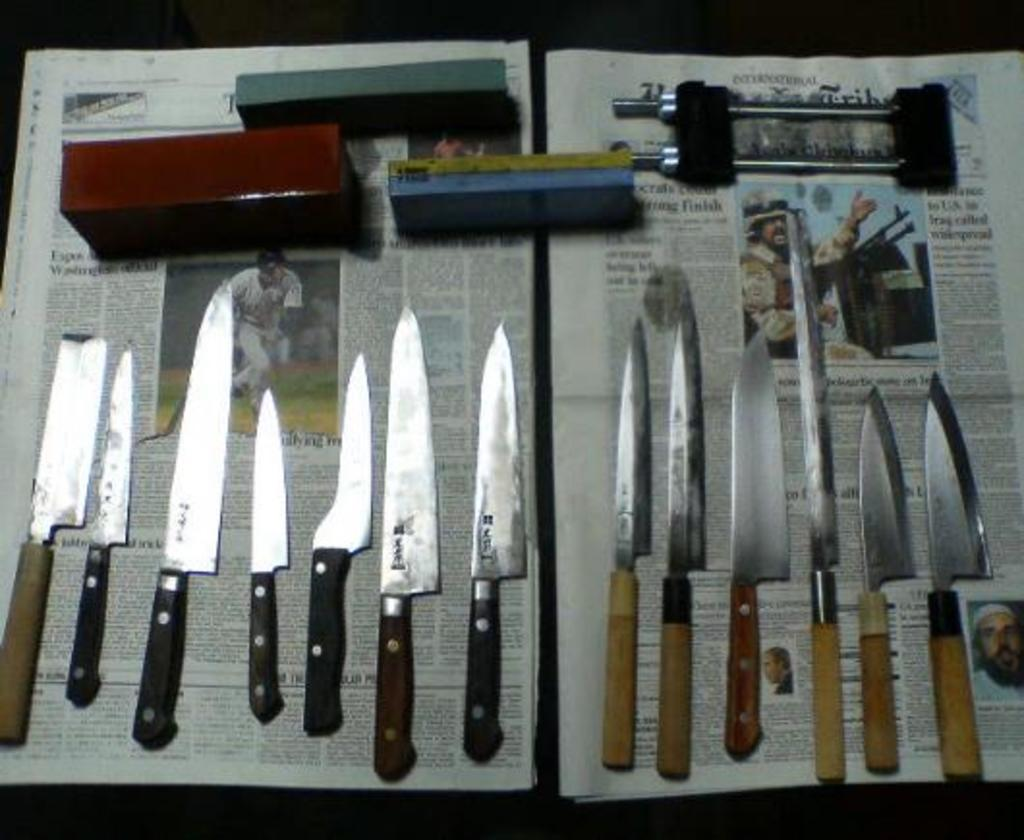knife: (0, 334, 108, 744), (135, 276, 226, 749), (460, 319, 533, 763), (374, 303, 438, 784), (790, 210, 838, 784), (730, 320, 792, 761), (931, 371, 995, 780), (66, 336, 136, 705), (657, 315, 711, 780), (858, 388, 918, 765), (313, 352, 371, 740), (607, 319, 655, 767), (249, 388, 286, 732)
